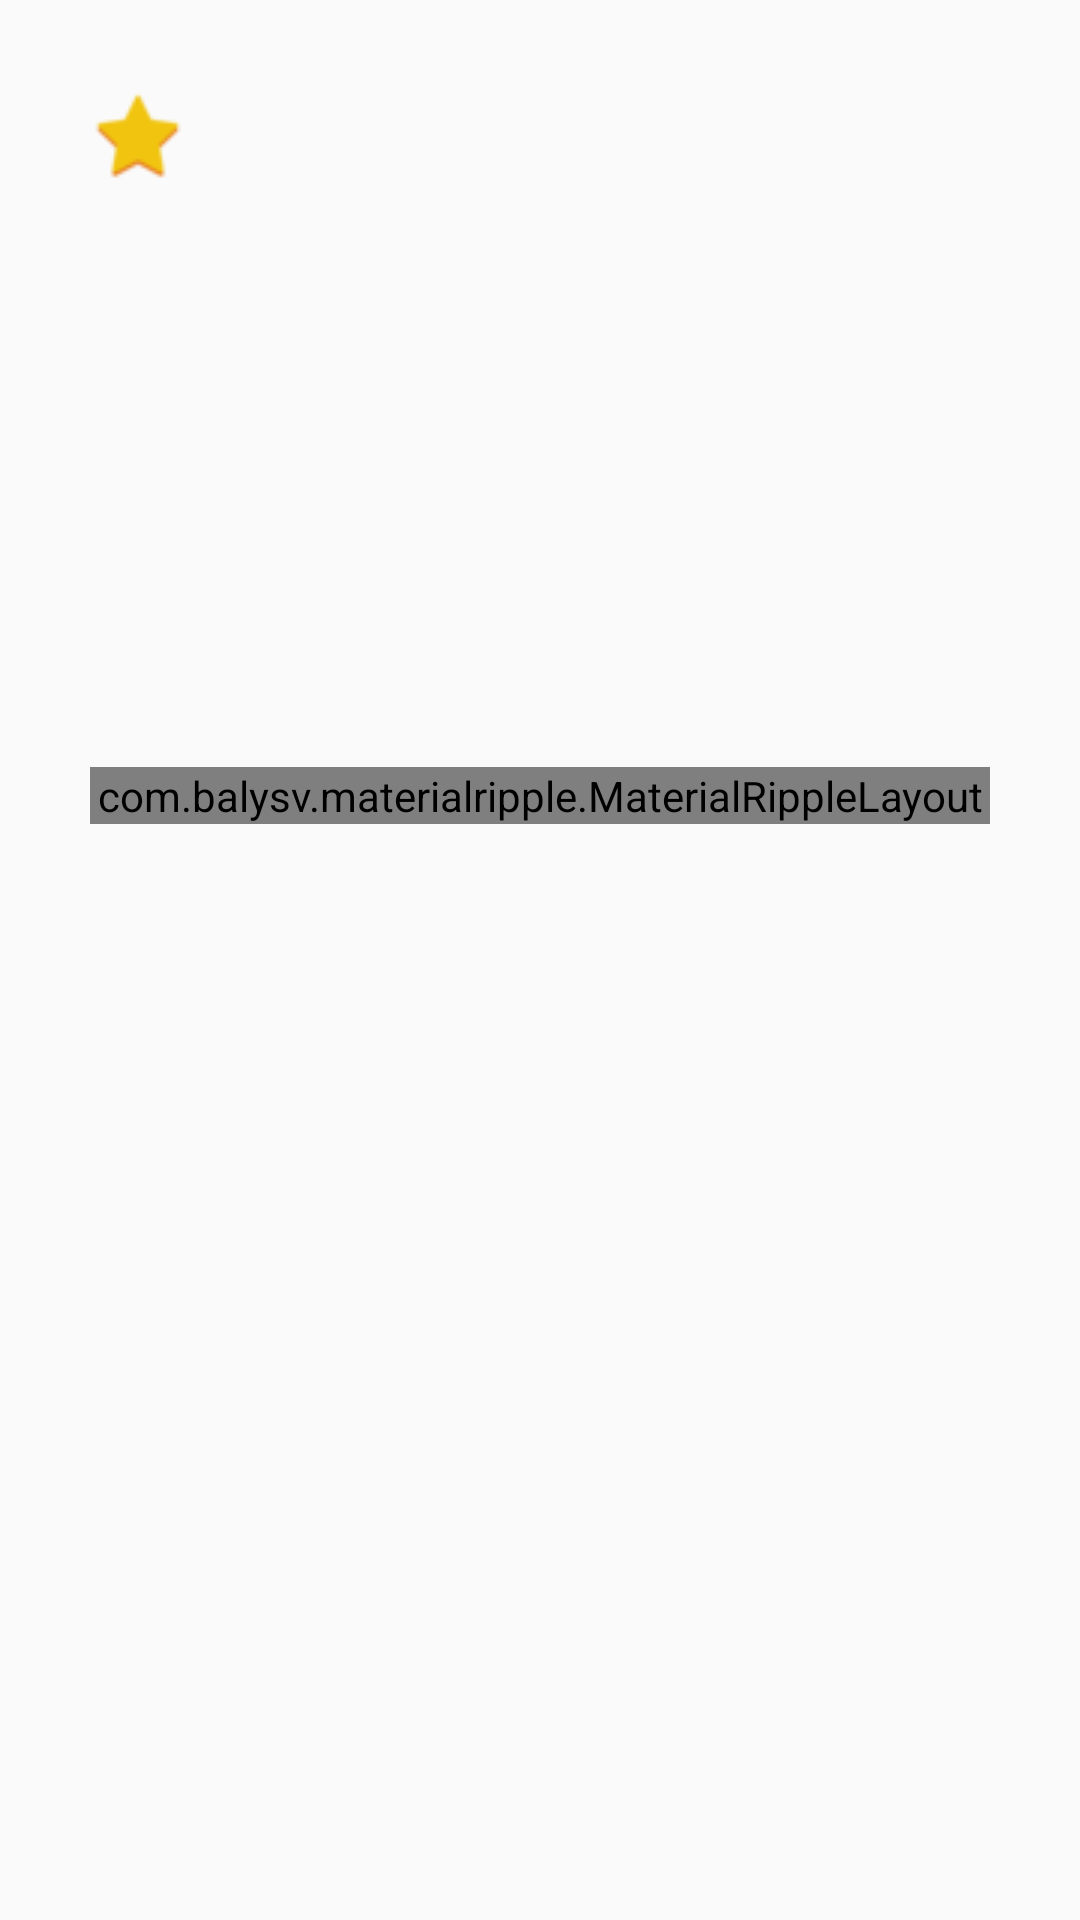

Named icons in this screenshot (1080 x 1920) and their bounding boxes, Rect(x1, y1, x2, y2):
star: Rect(96, 95, 180, 178)
